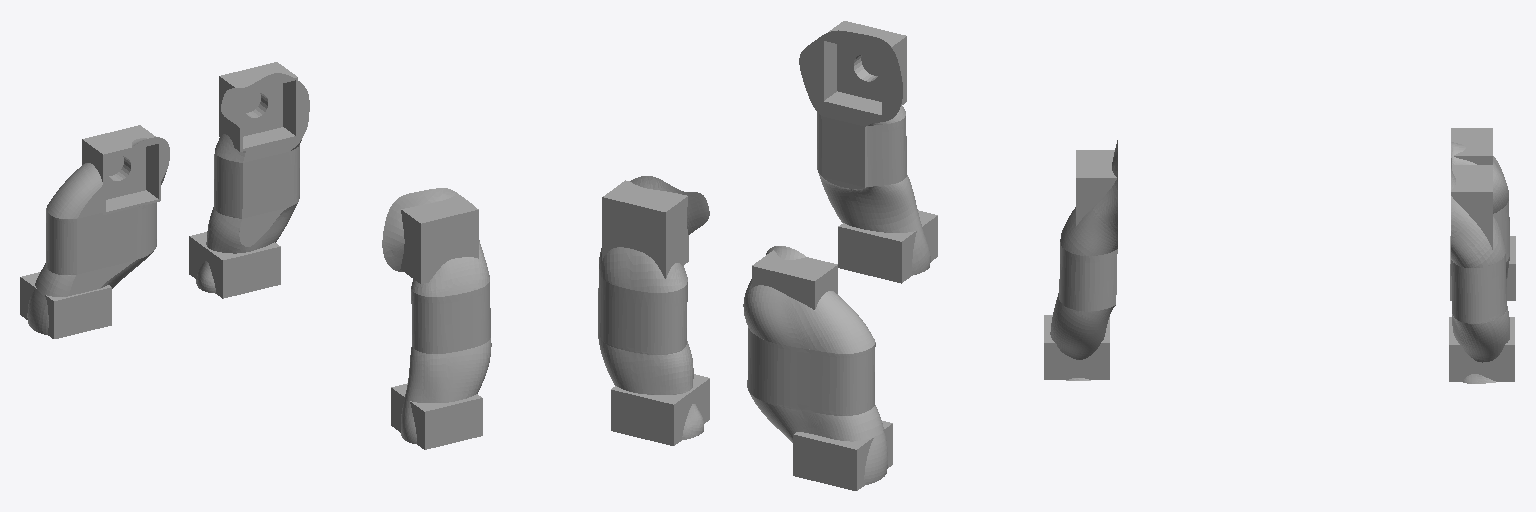
URDF robot description (FrogBot4_top-FrogBot4-y-9_bottom-FrogBot4-y-9):
<?xml version="1.0" ?>
<robot name="FrogBot4_top-FrogBot4-y-9_bottom-FrogBot4-y-9">

<material name="pla_5_percent_infill">
  <color rgba="0.700 0.700 0.700 1.000"/>
</material>

<link name="base_link">
  <inertial>
    <origin xyz="0 0 0" rpy="0 0 0"/>
    <mass value="1.4608203761339813"/>
    <inertia ixx="0.00496034401110324" iyy="0.010259632804669863" izz="0.010457868746855814" ixy="4.519338143051983e-05" iyz="5.808312742508133e-05" ixz="-0.001193761897574285"/>
  </inertial>
  <visual>
    <origin xyz="0 0 0" rpy="0 0 0"/>
    <geometry>
      <mesh filename="simple_meshes/base_link.stl" scale="0.001 0.001 0.001"/>
    </geometry>
    <material name="pla_5_percent_infill"/>
  </visual>
  <collision>
    <origin xyz="0 0 0" rpy="0 0 0"/>
    <geometry>
      <mesh filename="simple_meshes/base_link.stl" scale="0.001 0.001 0.001"/>
    </geometry>
  </collision>
</link>

<link name="body_1_0_1">
  <inertial>
    <origin xyz="-0.039935 -0.102508 -0.020563" rpy="0 0 0"/>
    <mass value="0.09638039335267436"/>
    <inertia ixx="0.000149413605200066" iyy="0.00016719334268943775" izz="4.179590209425245e-05" ixy="1.0736294895138812e-06" iyz="3.4236254684453854e-06" ixz="-1.7916284568301238e-05"/>
  </inertial>
  <visual>
    <origin xyz="-0.039935 -0.102508 -0.020563" rpy="0 0 0"/>
    <geometry>
      <mesh filename="simple_meshes/body_1_0_1.stl" scale="0.001 0.001 0.001"/>
    </geometry>
    <material name="pla_5_percent_infill"/>
  </visual>
  <collision>
    <origin xyz="-0.039935 -0.102508 -0.020563" rpy="0 0 0"/>
    <geometry>
      <mesh filename="simple_meshes/body_1_0_1.stl" scale="0.001 0.001 0.001"/>
    </geometry>
  </collision>
</link>

<link name="body_1_1_1">
  <inertial>
    <origin xyz="0.084829 -0.102508 0.010182" rpy="0 0 0"/>
    <mass value="0.11500864731276682"/>
    <inertia ixx="0.0001257884091385819" iyy="0.00018210563603961822" izz="8.533031921161222e-05" ixy="-2.4119076764410764e-06" iyz="1.8601116171418656e-06" ixz="-3.19286860500485e-05"/>
  </inertial>
  <visual>
    <origin xyz="0.084829 -0.102508 0.010182" rpy="0 0 0"/>
    <geometry>
      <mesh filename="simple_meshes/body_1_1_1.stl" scale="0.001 0.001 0.001"/>
    </geometry>
    <material name="pla_5_percent_infill"/>
  </visual>
  <collision>
    <origin xyz="0.084829 -0.102508 0.010182" rpy="0 0 0"/>
    <geometry>
      <mesh filename="simple_meshes/body_1_1_1.stl" scale="0.001 0.001 0.001"/>
    </geometry>
  </collision>
</link>

<link name="body_1_2_1">
  <inertial>
    <origin xyz="-0.032973 0.102508 -0.03352" rpy="0 0 0"/>
    <mass value="0.10241329953721655"/>
    <inertia ixx="0.00018093746184395234" iyy="0.0001968792083816403" izz="4.48962329537418e-05" ixy="-2.8025641851598445e-06" iyz="-1.4965751827654146e-05" ixz="-1.5131763044338097e-05"/>
  </inertial>
  <visual>
    <origin xyz="-0.032973 0.102508 -0.03352" rpy="0 0 0"/>
    <geometry>
      <mesh filename="simple_meshes/body_1_2_1.stl" scale="0.001 0.001 0.001"/>
    </geometry>
    <material name="pla_5_percent_infill"/>
  </visual>
  <collision>
    <origin xyz="-0.032973 0.102508 -0.03352" rpy="0 0 0"/>
    <geometry>
      <mesh filename="simple_meshes/body_1_2_1.stl" scale="0.001 0.001 0.001"/>
    </geometry>
  </collision>
</link>

<link name="body_1_3_1">
  <inertial>
    <origin xyz="0.075405 0.102508 -0.000907" rpy="0 0 0"/>
    <mass value="0.12156832275059853"/>
    <inertia ixx="0.00013758525365973207" iyy="0.00019504016904389027" izz="8.909196501142398e-05" ixy="6.113718046120258e-08" iyz="-1.939409002651364e-06" ixz="-3.1433497264792476e-05"/>
  </inertial>
  <visual>
    <origin xyz="0.075405 0.102508 -0.000907" rpy="0 0 0"/>
    <geometry>
      <mesh filename="simple_meshes/body_1_3_1.stl" scale="0.001 0.001 0.001"/>
    </geometry>
    <material name="pla_5_percent_infill"/>
  </visual>
  <collision>
    <origin xyz="0.075405 0.102508 -0.000907" rpy="0 0 0"/>
    <geometry>
      <mesh filename="simple_meshes/body_1_3_1.stl" scale="0.001 0.001 0.001"/>
    </geometry>
  </collision>
</link>

<link name="body_2_0_1">
  <inertial>
    <origin xyz="-0.025656 -0.145015 0.130436" rpy="0 0 0"/>
    <mass value="0.13276483031611247"/>
    <inertia ixx="0.00012733077783330486" iyy="0.00014981371842684096" izz="0.00012742258036916492" ixy="-7.36380966592353e-08" iyz="1.2431444579314582e-06" ixz="2.9384950213315287e-05"/>
  </inertial>
  <visual>
    <origin xyz="-0.025656 -0.145015 0.130436" rpy="0 0 0"/>
    <geometry>
      <mesh filename="simple_meshes/body_2_0_1.stl" scale="0.001 0.001 0.001"/>
    </geometry>
    <material name="pla_5_percent_infill"/>
  </visual>
  <collision>
    <origin xyz="-0.025656 -0.145015 0.130436" rpy="0 0 0"/>
    <geometry>
      <mesh filename="simple_meshes/body_2_0_1.stl" scale="0.001 0.001 0.001"/>
    </geometry>
  </collision>
</link>

<link name="body_2_1_1">
  <inertial>
    <origin xyz="0.114857 -0.145661 0.130438" rpy="0 0 0"/>
    <mass value="0.11275214548822712"/>
    <inertia ixx="9.736265908280497e-05" iyy="0.00013366332983472898" izz="9.006927698340531e-05" ixy="-2.6136765315142377e-06" iyz="6.9041537036794096e-06" ixz="2.9901195570665494e-05"/>
  </inertial>
  <visual>
    <origin xyz="0.114857 -0.145661 0.130438" rpy="0 0 0"/>
    <geometry>
      <mesh filename="simple_meshes/body_2_1_1.stl" scale="0.001 0.001 0.001"/>
    </geometry>
    <material name="pla_5_percent_infill"/>
  </visual>
  <collision>
    <origin xyz="0.114857 -0.145661 0.130438" rpy="0 0 0"/>
    <geometry>
      <mesh filename="simple_meshes/body_2_1_1.stl" scale="0.001 0.001 0.001"/>
    </geometry>
  </collision>
</link>

<link name="body_2_2_1">
  <inertial>
    <origin xyz="-0.022601 0.152053 0.130436" rpy="0 0 0"/>
    <mass value="0.14311456560235977"/>
    <inertia ixx="0.00013674929125781152" iyy="0.0001658379147275119" izz="0.00013727213865715555" ixy="-4.2164385010813946e-06" iyz="-1.113693552828518e-06" ixz="3.2963625339837424e-05"/>
  </inertial>
  <visual>
    <origin xyz="-0.022601 0.152053 0.130436" rpy="0 0 0"/>
    <geometry>
      <mesh filename="simple_meshes/body_2_2_1.stl" scale="0.001 0.001 0.001"/>
    </geometry>
    <material name="pla_5_percent_infill"/>
  </visual>
  <collision>
    <origin xyz="-0.022601 0.152053 0.130436" rpy="0 0 0"/>
    <geometry>
      <mesh filename="simple_meshes/body_2_2_1.stl" scale="0.001 0.001 0.001"/>
    </geometry>
  </collision>
</link>

<link name="body_2_3_1">
  <inertial>
    <origin xyz="0.12145 0.146005 0.130436" rpy="0 0 0"/>
    <mass value="0.11981848753320068"/>
    <inertia ixx="0.00011731779423468022" iyy="0.00012379083392387562" izz="0.00011021283487030456" ixy="5.655840359716953e-06" iyz="-1.2241822694034933e-05" ixz="2.097166595083598e-05"/>
  </inertial>
  <visual>
    <origin xyz="0.12145 0.146005 0.130436" rpy="0 0 0"/>
    <geometry>
      <mesh filename="simple_meshes/body_2_3_1.stl" scale="0.001 0.001 0.001"/>
    </geometry>
    <material name="pla_5_percent_infill"/>
  </visual>
  <collision>
    <origin xyz="0.12145 0.146005 0.130436" rpy="0 0 0"/>
    <geometry>
      <mesh filename="simple_meshes/body_2_3_1.stl" scale="0.001 0.001 0.001"/>
    </geometry>
  </collision>
</link>

<joint name="joint_1_0" type="revolute">
  <origin xyz="0.039935 0.102508 0.020563" rpy="0 0 0"/>
  <parent link="base_link"/>
  <child link="body_1_0_1"/>
  <axis xyz="0.0 0.0 -1.0"/>
  <limit upper="1.2" lower="-1.2" effort="3.8" velocity="5.4"/>
</joint>
<transmission name="joint_1_0_tran">
  <type>transmission_interface/SimpleTransmission</type>
  <joint name="joint_1_0">
    <hardwareInterface>PositionJointInterface</hardwareInterface>
  </joint>
  <actuator name="joint_1_0_actr">
    <hardwareInterface>PositionJointInterface</hardwareInterface>
    <mechanicalReduction>1</mechanicalReduction>
  </actuator>
</transmission>

<joint name="joint_1_1" type="revolute">
  <origin xyz="-0.084829 0.102508 -0.010182" rpy="0 0 0"/>
  <parent link="base_link"/>
  <child link="body_1_1_1"/>
  <axis xyz="0.0 0.0 -1.0"/>
  <limit upper="1.2" lower="-1.2" effort="3.8" velocity="5.4"/>
</joint>
<transmission name="joint_1_1_tran">
  <type>transmission_interface/SimpleTransmission</type>
  <joint name="joint_1_1">
    <hardwareInterface>PositionJointInterface</hardwareInterface>
  </joint>
  <actuator name="joint_1_1_actr">
    <hardwareInterface>PositionJointInterface</hardwareInterface>
    <mechanicalReduction>1</mechanicalReduction>
  </actuator>
</transmission>

<joint name="joint_1_2" type="revolute">
  <origin xyz="0.032973 -0.102508 0.03352" rpy="0 0 0"/>
  <parent link="base_link"/>
  <child link="body_1_2_1"/>
  <axis xyz="0.0 0.0 -1.0"/>
  <limit upper="1.2" lower="-1.2" effort="3.8" velocity="5.4"/>
</joint>
<transmission name="joint_1_2_tran">
  <type>transmission_interface/SimpleTransmission</type>
  <joint name="joint_1_2">
    <hardwareInterface>PositionJointInterface</hardwareInterface>
  </joint>
  <actuator name="joint_1_2_actr">
    <hardwareInterface>PositionJointInterface</hardwareInterface>
    <mechanicalReduction>1</mechanicalReduction>
  </actuator>
</transmission>

<joint name="joint_1_3" type="revolute">
  <origin xyz="-0.075405 -0.102508 0.000907" rpy="0 0 0"/>
  <parent link="base_link"/>
  <child link="body_1_3_1"/>
  <axis xyz="0.0 0.0 -1.0"/>
  <limit upper="1.2" lower="-1.2" effort="3.8" velocity="5.4"/>
</joint>
<transmission name="joint_1_3_tran">
  <type>transmission_interface/SimpleTransmission</type>
  <joint name="joint_1_3">
    <hardwareInterface>PositionJointInterface</hardwareInterface>
  </joint>
  <actuator name="joint_1_3_actr">
    <hardwareInterface>PositionJointInterface</hardwareInterface>
    <mechanicalReduction>1</mechanicalReduction>
  </actuator>
</transmission>

<joint name="joint_2_0" type="revolute">
  <origin xyz="-0.014279 0.042507 -0.150999" rpy="0 0 0"/>
  <parent link="body_1_0_1"/>
  <child link="body_2_0_1"/>
  <axis xyz="0.0 1.0 0.0"/>
  <limit upper="1.2" lower="-1.2" effort="3.8" velocity="5.4"/>
</joint>
<transmission name="joint_2_0_tran">
  <type>transmission_interface/SimpleTransmission</type>
  <joint name="joint_2_0">
    <hardwareInterface>PositionJointInterface</hardwareInterface>
  </joint>
  <actuator name="joint_2_0_actr">
    <hardwareInterface>PositionJointInterface</hardwareInterface>
    <mechanicalReduction>1</mechanicalReduction>
  </actuator>
</transmission>

<joint name="joint_2_1" type="revolute">
  <origin xyz="-0.030028 0.043153 -0.120256" rpy="0 0 0"/>
  <parent link="body_1_1_1"/>
  <child link="body_2_1_1"/>
  <axis xyz="0.0 1.0 0.0"/>
  <limit upper="1.2" lower="-1.2" effort="3.8" velocity="5.4"/>
</joint>
<transmission name="joint_2_1_tran">
  <type>transmission_interface/SimpleTransmission</type>
  <joint name="joint_2_1">
    <hardwareInterface>PositionJointInterface</hardwareInterface>
  </joint>
  <actuator name="joint_2_1_actr">
    <hardwareInterface>PositionJointInterface</hardwareInterface>
    <mechanicalReduction>1</mechanicalReduction>
  </actuator>
</transmission>

<joint name="joint_2_2" type="revolute">
  <origin xyz="-0.010372 -0.049545 -0.163956" rpy="0 0 0"/>
  <parent link="body_1_2_1"/>
  <child link="body_2_2_1"/>
  <axis xyz="0.0 1.0 0.0"/>
  <limit upper="1.2" lower="-1.2" effort="3.8" velocity="5.4"/>
</joint>
<transmission name="joint_2_2_tran">
  <type>transmission_interface/SimpleTransmission</type>
  <joint name="joint_2_2">
    <hardwareInterface>PositionJointInterface</hardwareInterface>
  </joint>
  <actuator name="joint_2_2_actr">
    <hardwareInterface>PositionJointInterface</hardwareInterface>
    <mechanicalReduction>1</mechanicalReduction>
  </actuator>
</transmission>

<joint name="joint_2_3" type="revolute">
  <origin xyz="-0.046045 -0.043497 -0.131343" rpy="0 0 0"/>
  <parent link="body_1_3_1"/>
  <child link="body_2_3_1"/>
  <axis xyz="0.0 1.0 0.0"/>
  <limit upper="1.2" lower="-1.2" effort="3.8" velocity="5.4"/>
</joint>
<transmission name="joint_2_3_tran">
  <type>transmission_interface/SimpleTransmission</type>
  <joint name="joint_2_3">
    <hardwareInterface>PositionJointInterface</hardwareInterface>
  </joint>
  <actuator name="joint_2_3_actr">
    <hardwareInterface>PositionJointInterface</hardwareInterface>
    <mechanicalReduction>1</mechanicalReduction>
  </actuator>
</transmission>

</robot>

--- Render facts (derived) ---
Views: 3 orthographic renders of the robot side by side, from view 1: azimuth 30°, elevation 25°; view 2: azimuth 150°, elevation 25°; view 3: azimuth 270°, elevation 25°.
Robot: FrogBot4_top-FrogBot4-y-9_bottom-FrogBot4-y-9 — 9 links, 8 joints (8 revolute); root link base_link; default pose: all joints at 0.
Links seen in each view (by area): view 1: body_1_2_1, body_1_1_1, body_1_0_1; view 2: body_1_1_1, body_1_0_1, body_1_2_1; view 3: body_1_2_1, body_1_0_1, body_1_1_1.
Boxes of the visible links, x1,y1,x2,y2 form: body_1_2_1: (382,188,491,449); body_1_1_1: (20,125,169,338); body_1_0_1: (189,62,309,298); body_1_1_1: (743,246,892,490); body_1_0_1: (598,176,709,445); body_1_2_1: (799,21,937,283); body_1_2_1: (1044,140,1117,380); body_1_0_1: (1449,158,1514,383); body_1_1_1: (1450,128,1515,300).
Size in the robot's own frame: 0.2191 by 0.3461 by 0.1788 metres.
Meshes: 9 distinct files referenced, 3 mesh visuals loaded (3 binary STL); not drawn: 6 (reference not matched to a file when rendering).